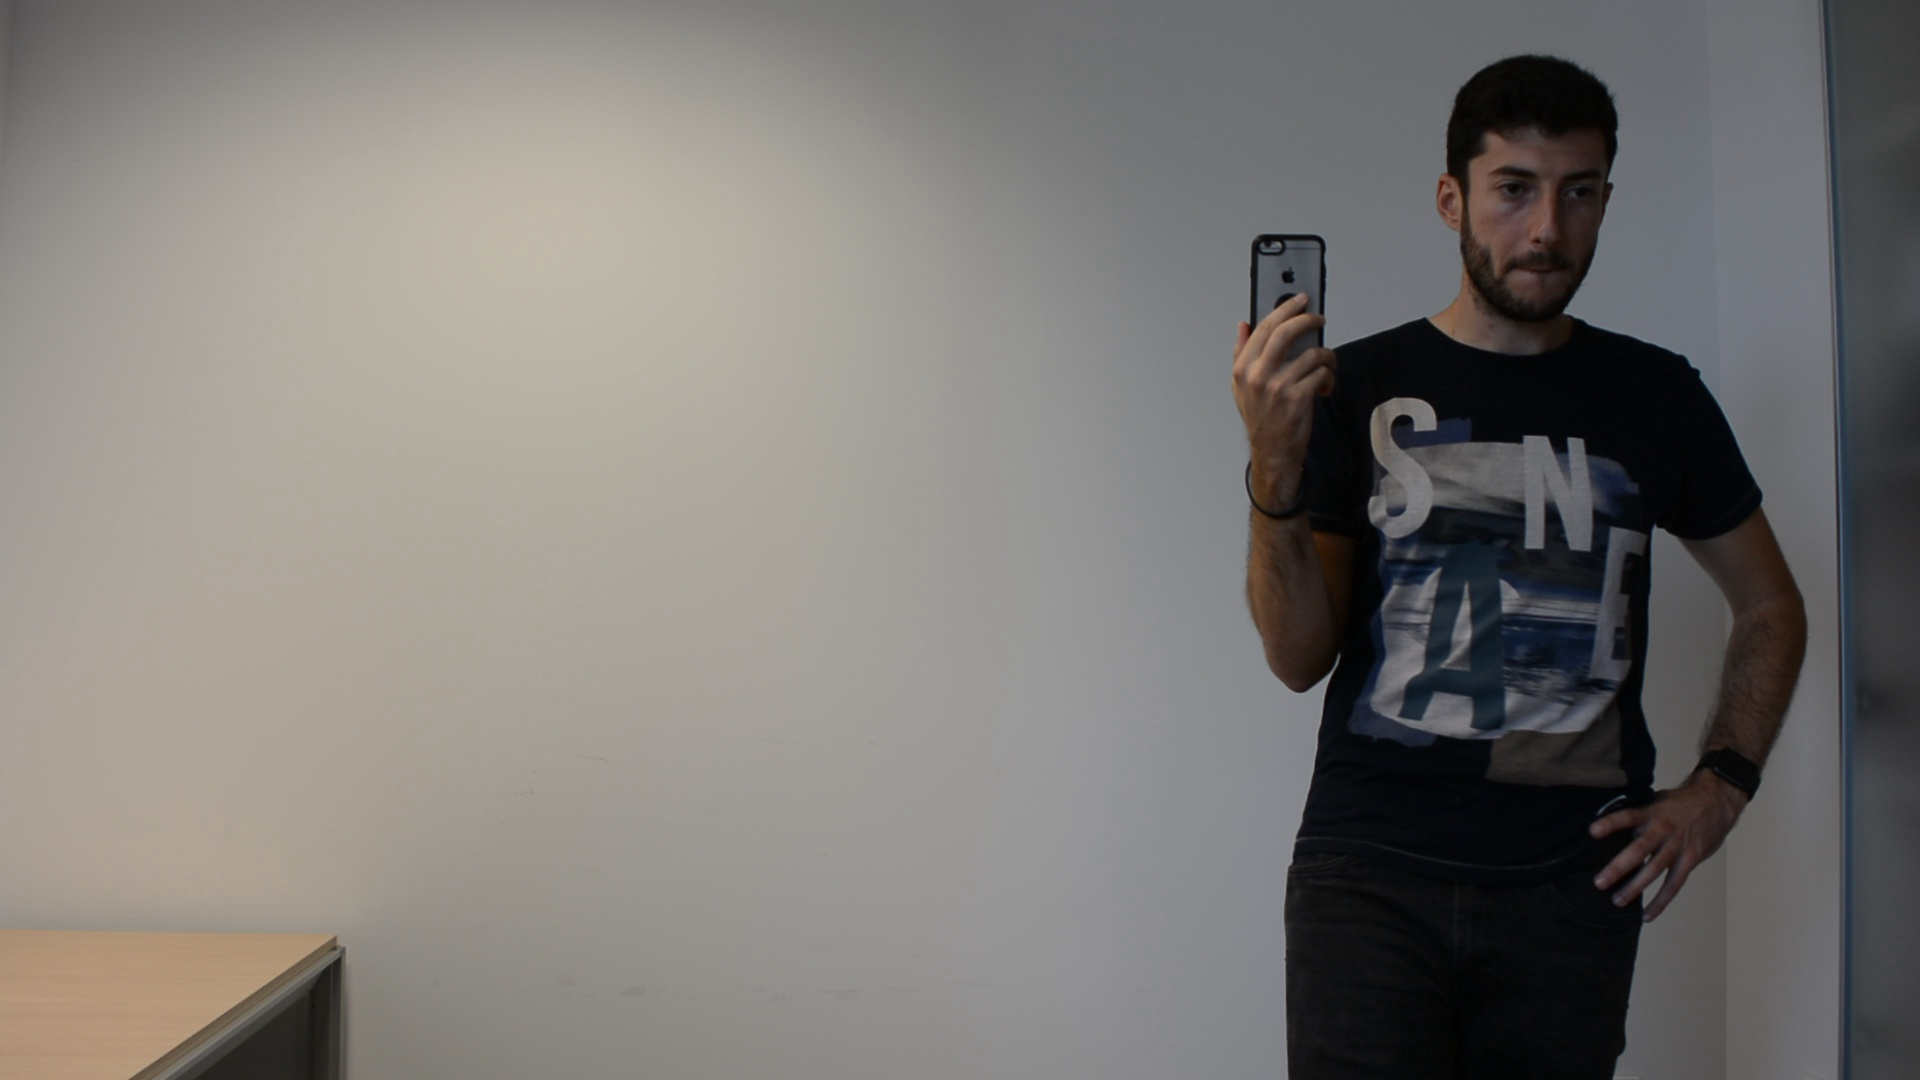smartphone: (1247, 232, 1328, 352)
